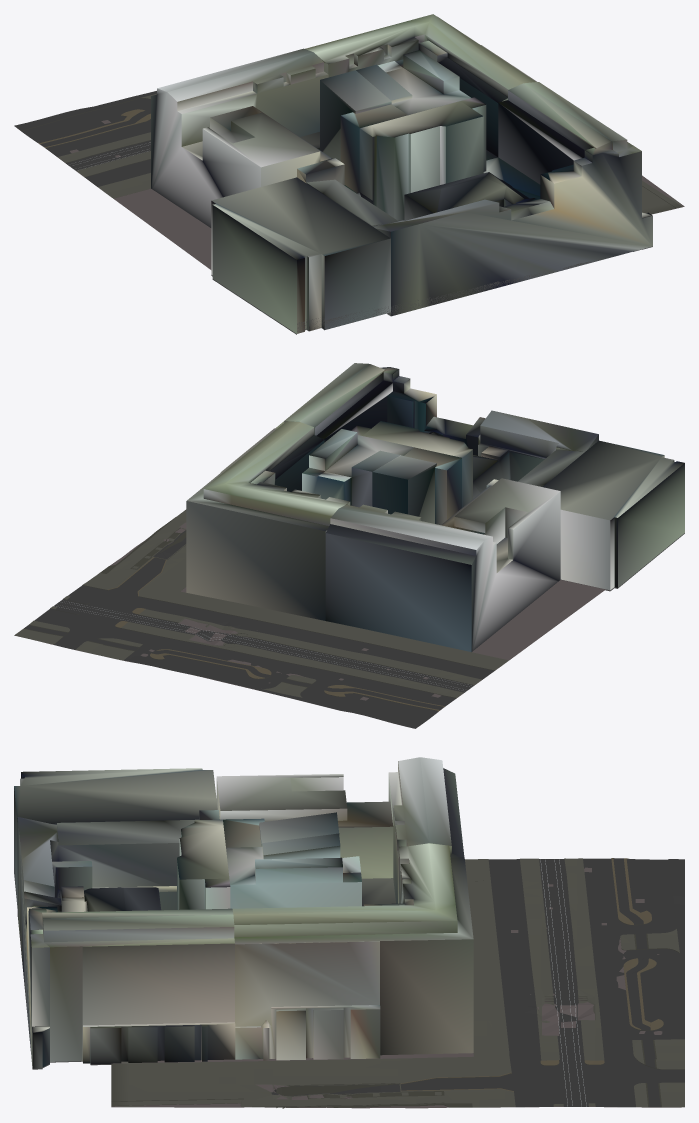
The picture shows the model from 3 angles, top to bottom: view 1: azimuth 30°, elevation 25°; view 2: azimuth 150°, elevation 25°; view 3: azimuth 270°, elevation 25°; orthographic projection. The views are drawn at different scales.
Parts seen in each view (by area): view 1: c_m05_m01; view 2: c_m05_m01; view 3: c_m05_m01.
Boxes of the visible parts, x1,y1,x2,y2 form: c_m05_m01: (14, 14, 684, 334); c_m05_m01: (14, 363, 684, 728); c_m05_m01: (14, 757, 684, 1108).
Size of the model in its own units: 130 by 39.48 by 150.
